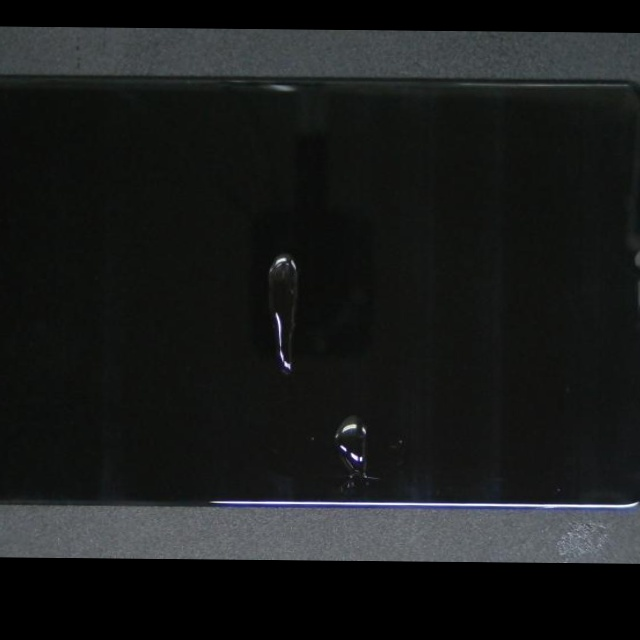oil: (143, 196, 539, 563), (125, 158, 472, 373)
